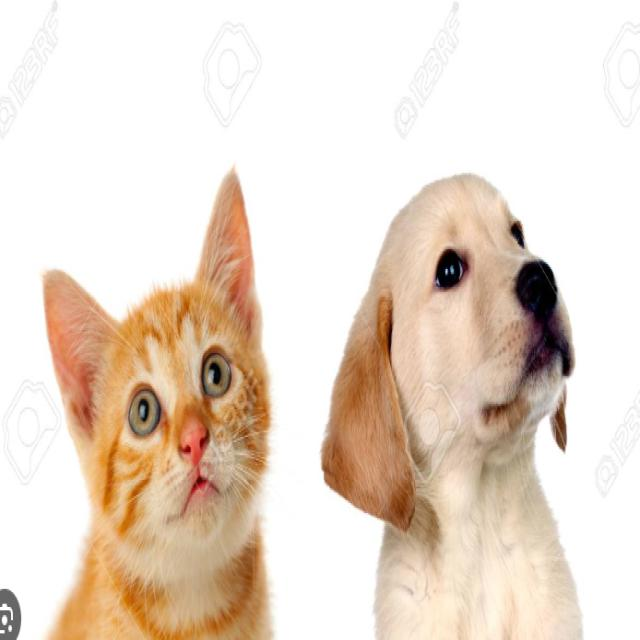cats: (42, 194, 292, 640)
dogs: (332, 144, 597, 626)
